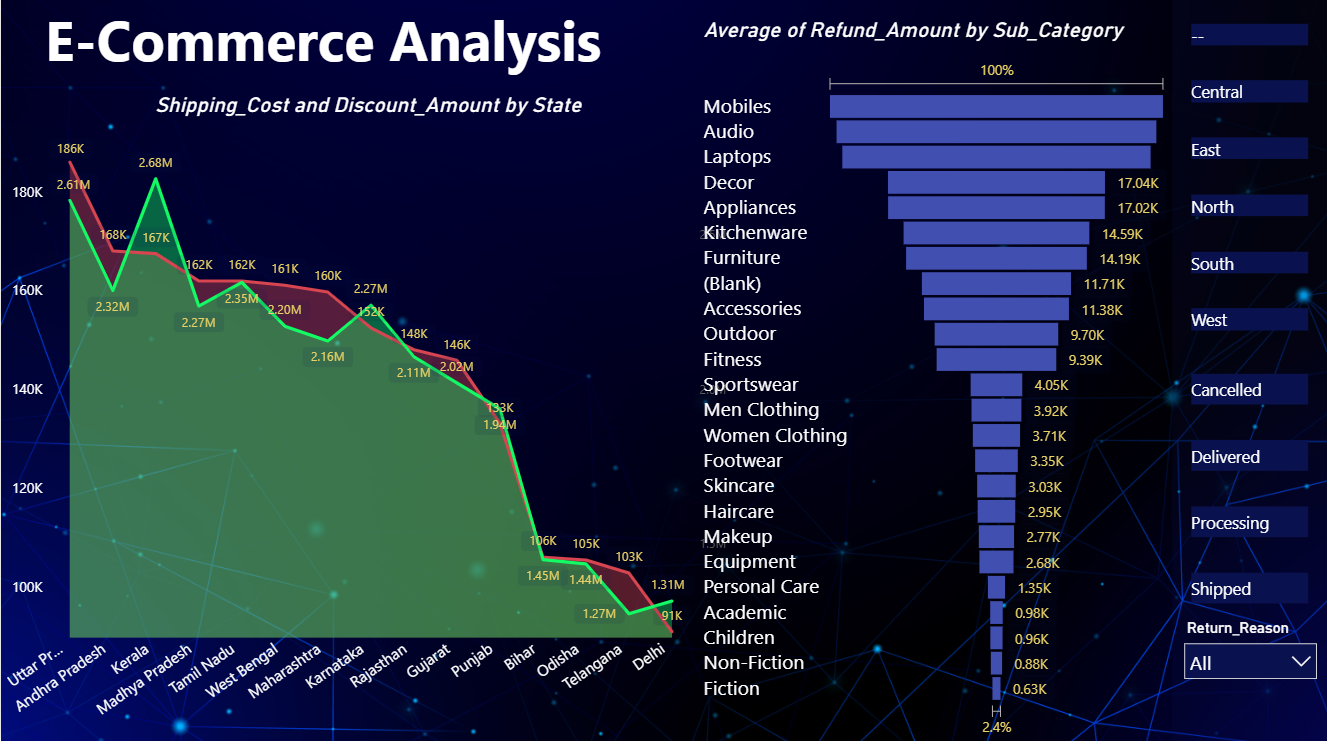

The dashboard page shown, as its layout file describes it:
{"tool":"powerbi","page":{"name":" Page 2","canvas":[1280,720],"ordinal":1},"visuals":[{"type":"textbox","box":[0,0,621.8,92.3],"z":0},{"type":"lineChart","title":" Shipping_Cost and Discount_Amount by State","fields":{"Category":["locations.State"],"Y2":["Sum(orders.Discount_Amount)"],"Y":["Sum(orders.Shipping_Cost)"]},"box":[0,92.9,709.4,627.3],"z":1000},{"type":"shape","box":[1130.4,0,149.6,720.2],"z":2000},{"type":"advancedSlicerVisual","fields":{"Values":["customers.Region"]},"box":[1130.4,8.4,149.6,337.8],"z":3000},{"type":"advancedSlicerVisual","fields":{"Values":["orders.Order_Status"]},"box":[1130.4,346.2,149.6,260.6],"z":4000},{"type":"slicer","fields":{"Values":["returns.Return_Reason"]},"box":[1131.1,595.9,148.6,86.6],"z":5000},{"type":"funnel","fields":{"Category":["products.Sub_Category"],"Y":["Avg(returns.Refund_Amount)"]},"box":[673.2,20.5,458.4,699.7],"z":6000}]}

Visuals, with their boxes in screenshot pixels (x1, y1, x2, y2), scaled from the page's 1280x720 canvas onto the 1327x741 screenshot:
textbox: rect(0, 0, 645, 95)
" Shipping_Cost and Discount_Amount by State" lineChart: rect(0, 96, 735, 740)
shape: rect(1172, 0, 1326, 740)
advancedSlicerVisual - customers.Region: rect(1172, 9, 1326, 356)
advancedSlicerVisual - orders.Order_Status: rect(1172, 356, 1326, 624)
slicer - returns.Return_Reason: rect(1173, 613, 1326, 702)
funnel - products.Sub_Category x Avg(returns.Refund_Amount): rect(698, 21, 1173, 740)
